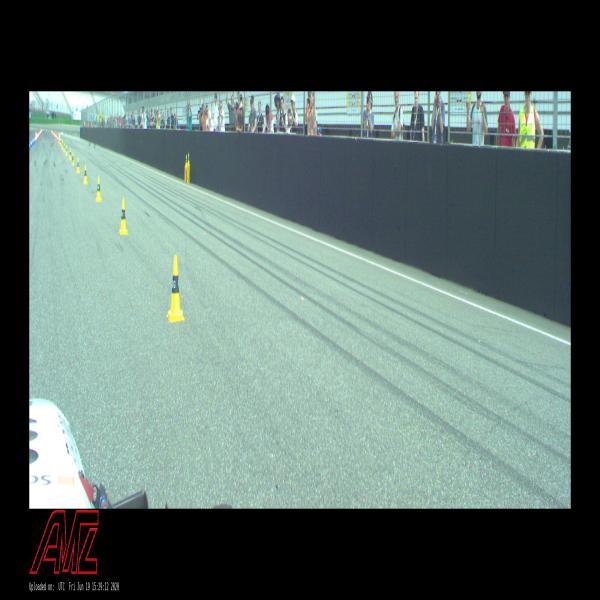blue_cone: (32, 138, 34, 146), (31, 139, 32, 147), (30, 142, 30, 150)
yellow_cone: (166, 255, 185, 322), (119, 198, 128, 234), (96, 176, 102, 202), (83, 165, 88, 185), (76, 158, 80, 173), (69, 148, 72, 160), (72, 152, 74, 166), (186, 154, 188, 168), (188, 154, 190, 166), (66, 145, 68, 156), (64, 143, 66, 152), (62, 141, 63, 149), (61, 140, 62, 147)
